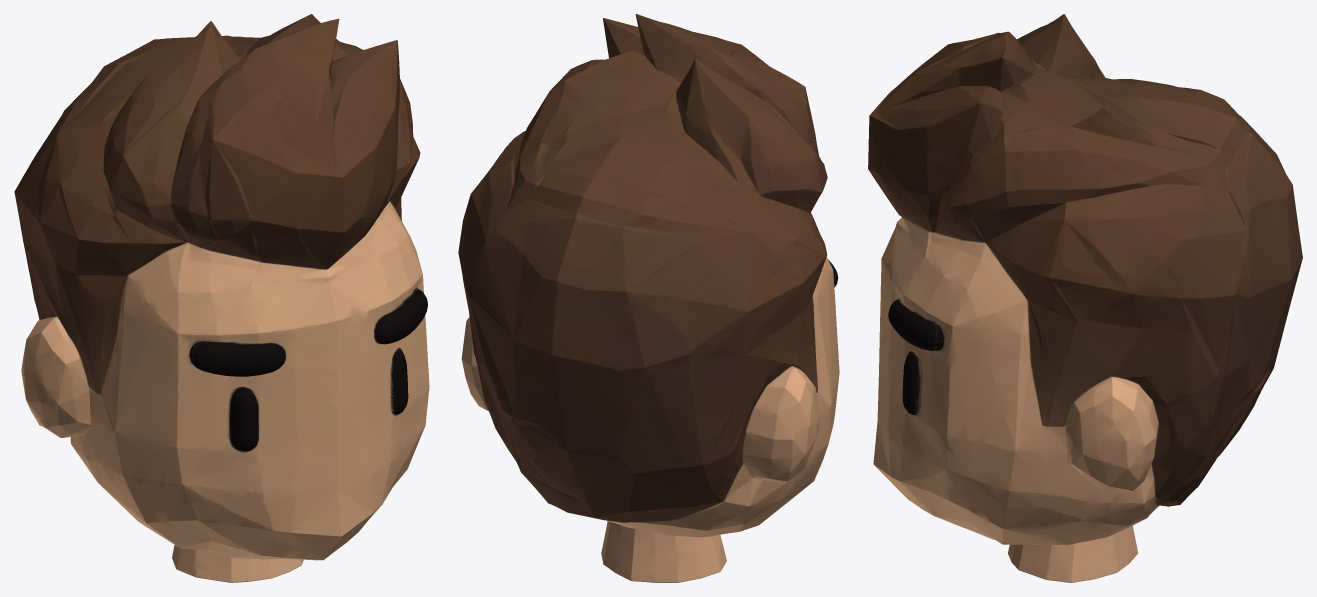
File: meshy.glb
3 views of the same model, side by side, from view 1: azimuth 30°, elevation 25°; view 2: azimuth 150°, elevation 25°; view 3: azimuth 270°, elevation 25° (orthographic). The views are drawn at different scales.
Size of the model in its own units: 1.36 by 1.9 by 1.42.
1 material, 1 textured.
